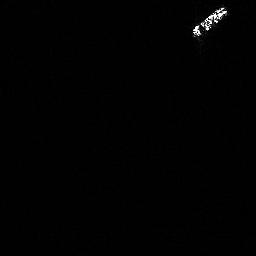ship: (189, 3, 229, 41)
